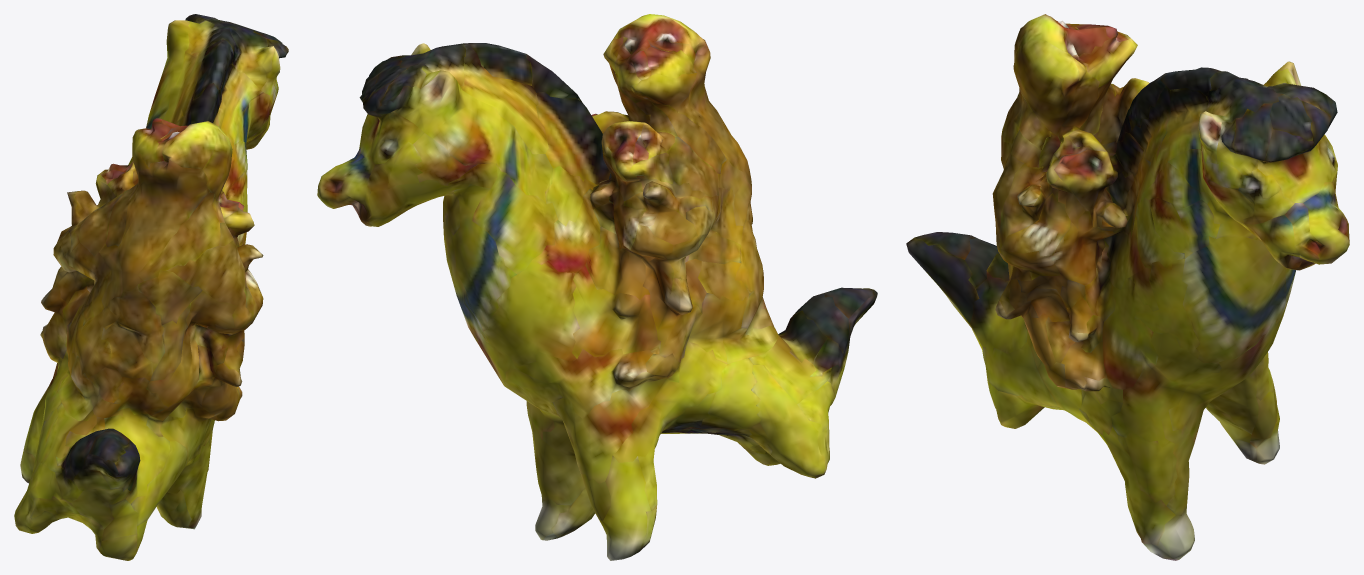
The model's file is hall.glb.
3 views of the same model, side by side, from view 1: azimuth 30°, elevation 25°; view 2: azimuth 150°, elevation 25°; view 3: azimuth 270°, elevation 25° (orthographic). The views are drawn at different scales.
Bounding box in the file's own units: 0.5846 × 0.7209 × 0.5585.
1 material, 1 textured.
